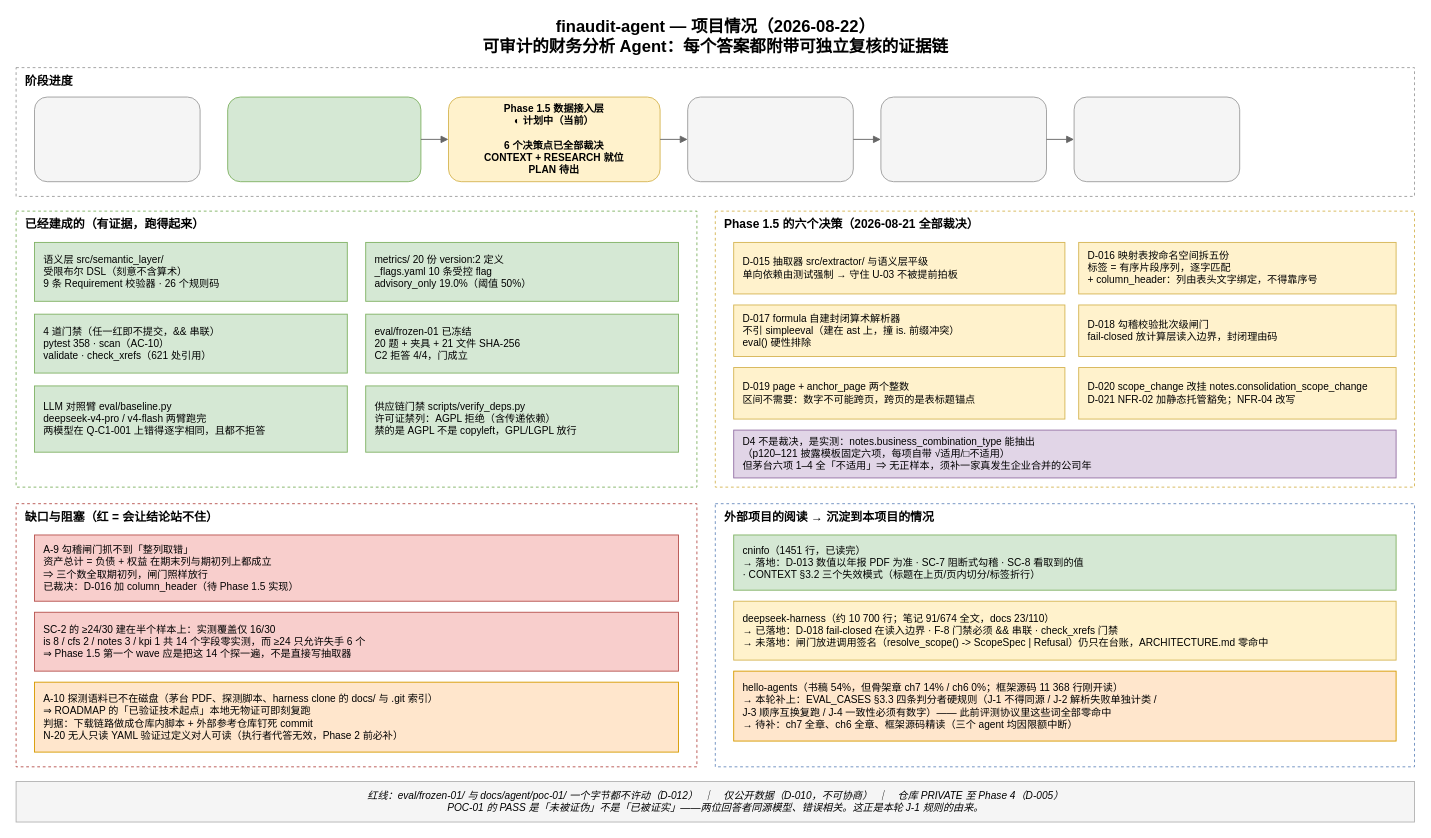
The diagram is 1431 pixels wide and 838 high, and some of its shapes have lost their labels. Here are the shapes that lost their labels. From the top down, the centre of each, then its label:
the point at 117,139: Phase 0 cninfo 实证结论 未开始（可并行）
the point at 324,139: Phase 1 语义层 ✅ 已收口 20/20 定义 · 358 tests 5 条成功标准全 VERIFIED
the point at 770,139: Phase 2 可信执行层 + Web 未开始（H2 复核实验）
the point at 963,139: Phase 3 知识层（准则 RAG） 未开始
the point at 1156,139: Phase 4 评测闭环与对外材料 未开始
